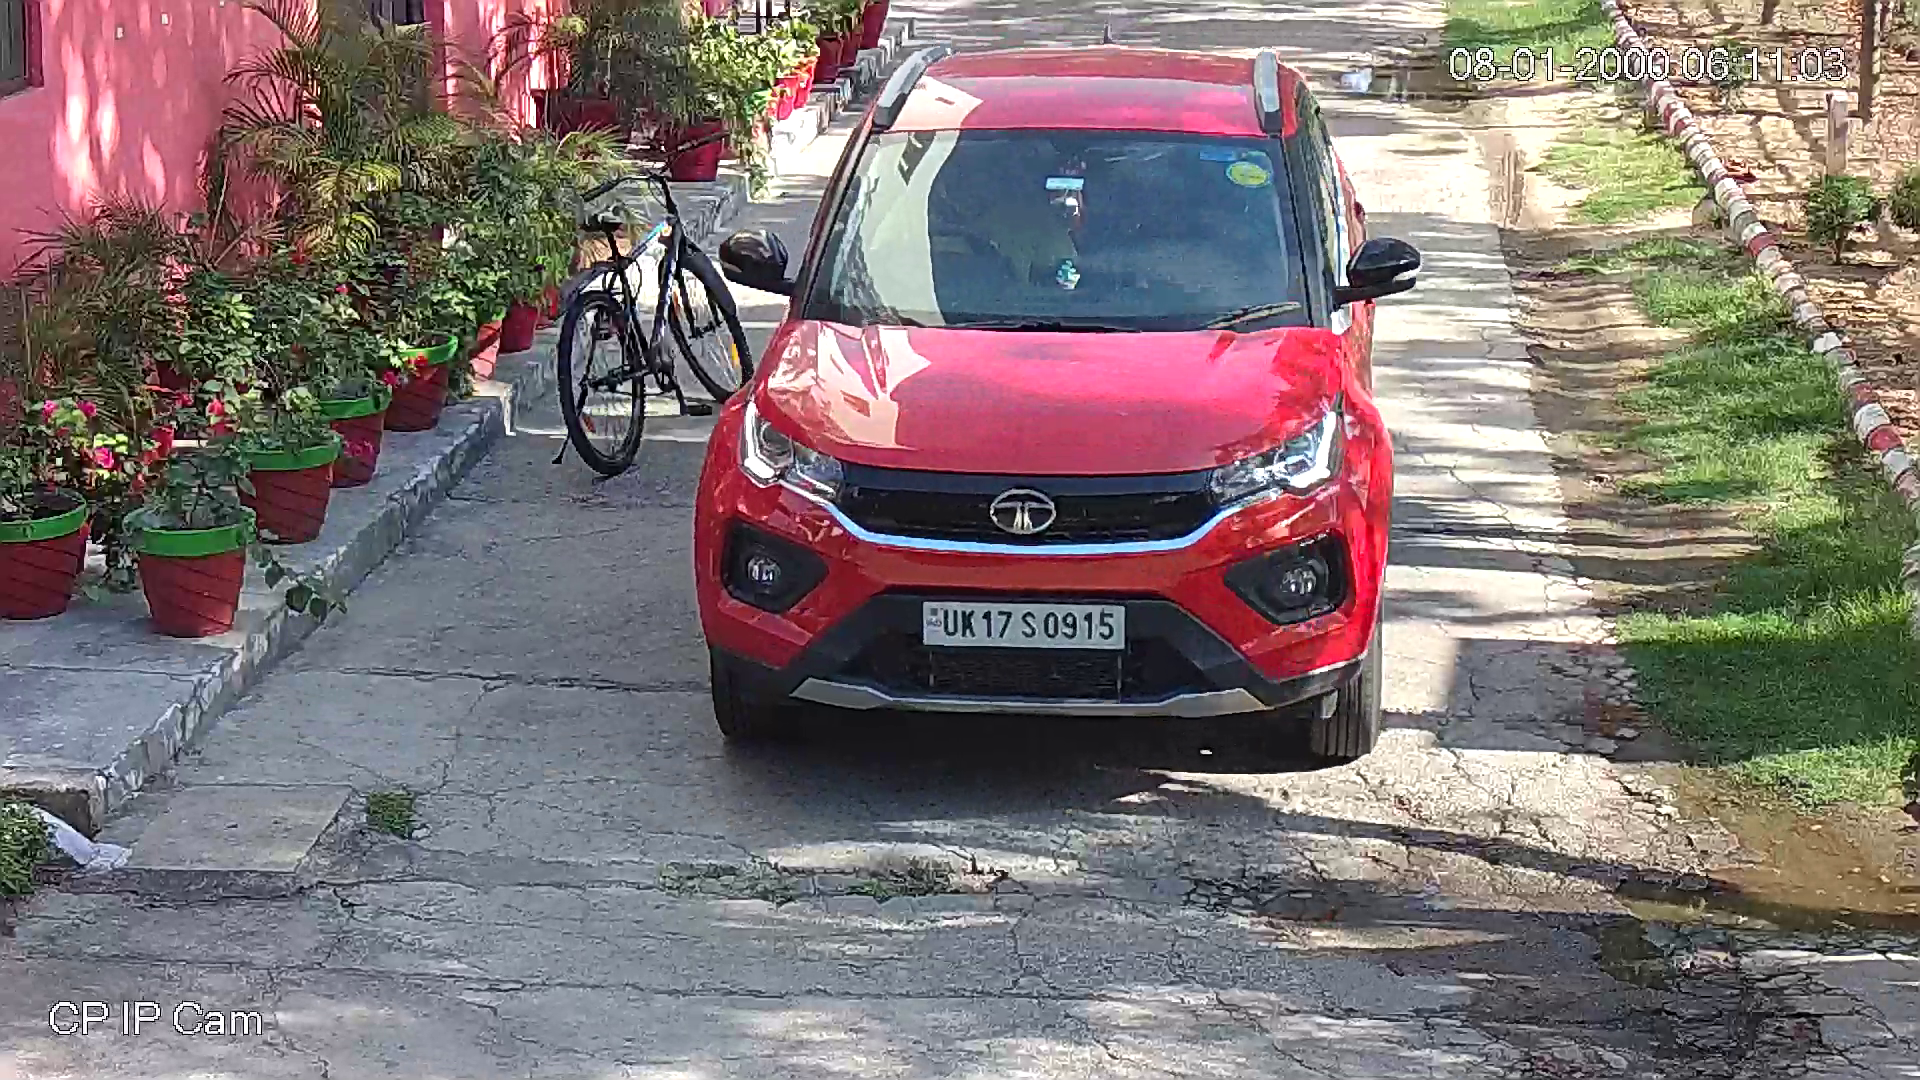plate: (915, 592, 1128, 656)
